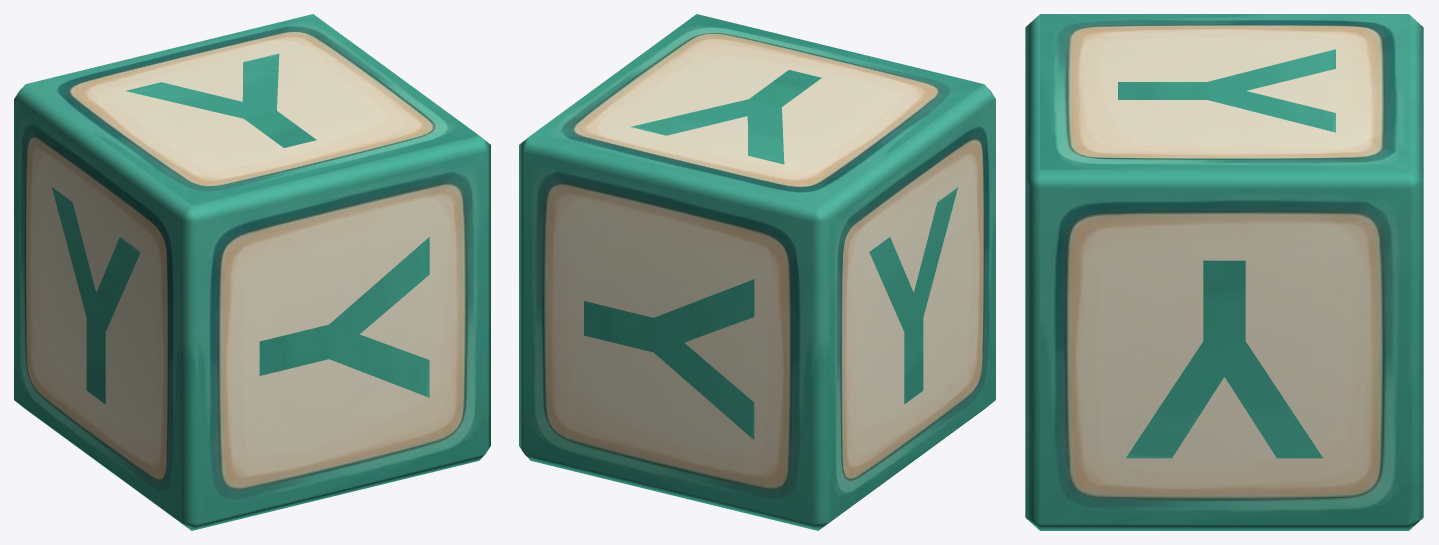
The model's file is CubeY.glb.
3 renders of one model, left to right at view 1: azimuth 30°, elevation 25°; view 2: azimuth 150°, elevation 25°; view 3: azimuth 270°, elevation 25°, orthographic. The views are drawn at different scales.
Parts seen in each view (by area): view 1: CubeY; view 2: CubeY; view 3: CubeY.
Boxes of the visible parts, box(x1,y1,x2,y2) form: CubeY: box(14, 14, 490, 530); CubeY: box(519, 14, 995, 530); CubeY: box(1025, 14, 1423, 530).
Size of what is drawn, in the model's own units: 0.513 by 0.513 by 0.513.
Materials: 1 (1 with a texture image).
